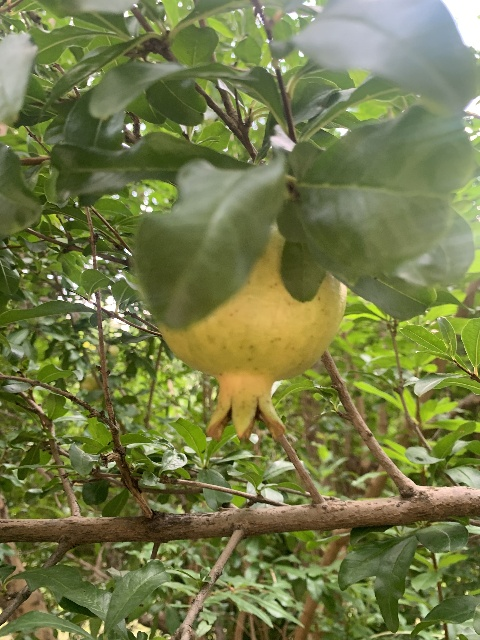mid-growth: (155, 223, 347, 442)
